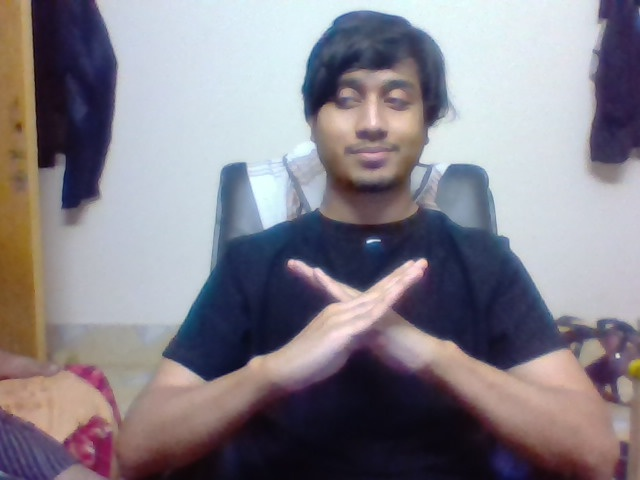X: (273, 239, 459, 376)
